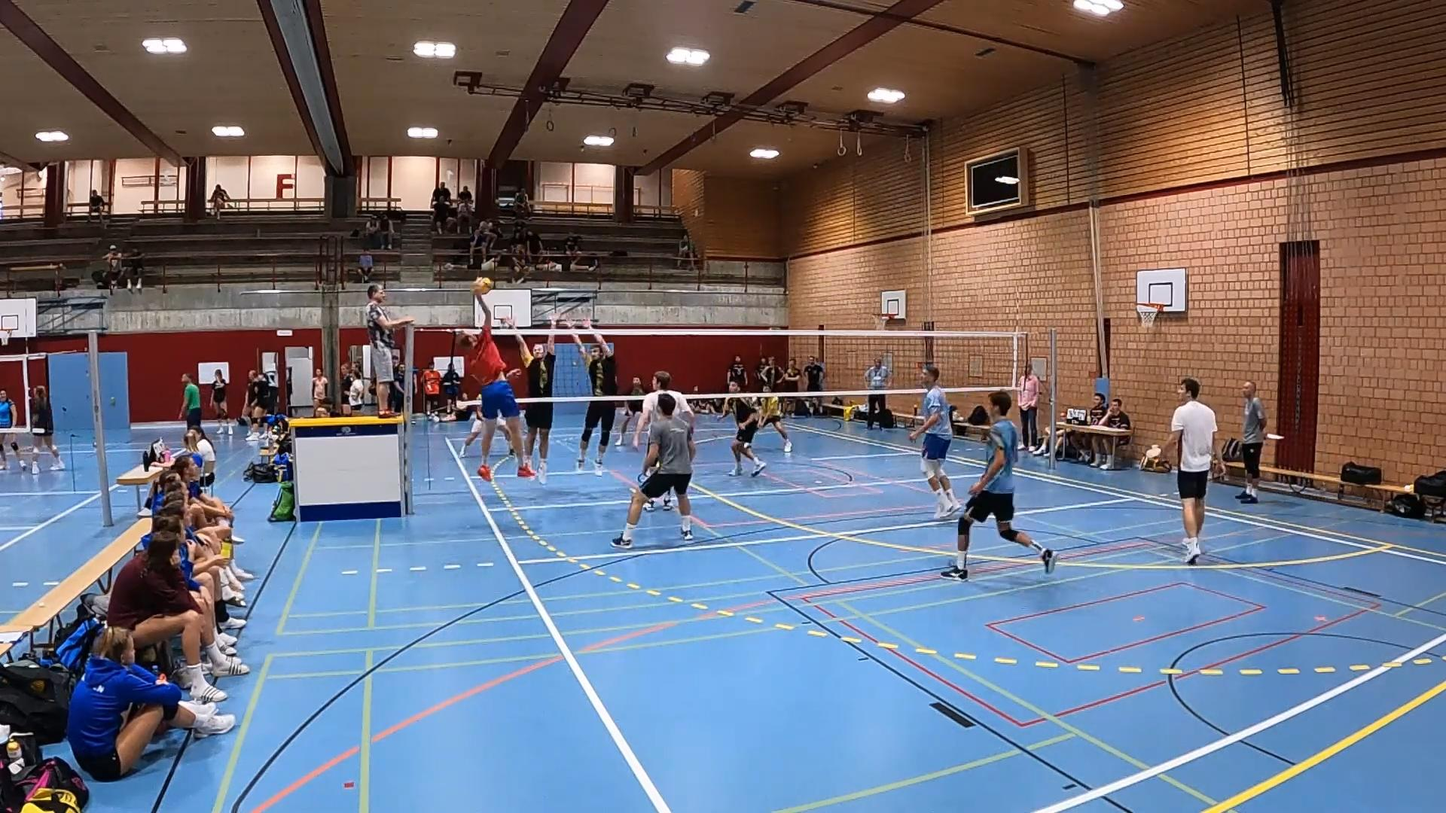Attack: (458, 309, 543, 488)
Block: (561, 309, 627, 483), (505, 300, 560, 485)
Player: (941, 391, 1055, 580), (612, 392, 696, 549), (1164, 378, 1217, 564), (909, 364, 962, 518), (633, 370, 695, 449), (723, 382, 766, 476), (759, 386, 792, 453), (615, 378, 647, 446)
ball: (471, 277, 497, 292)
